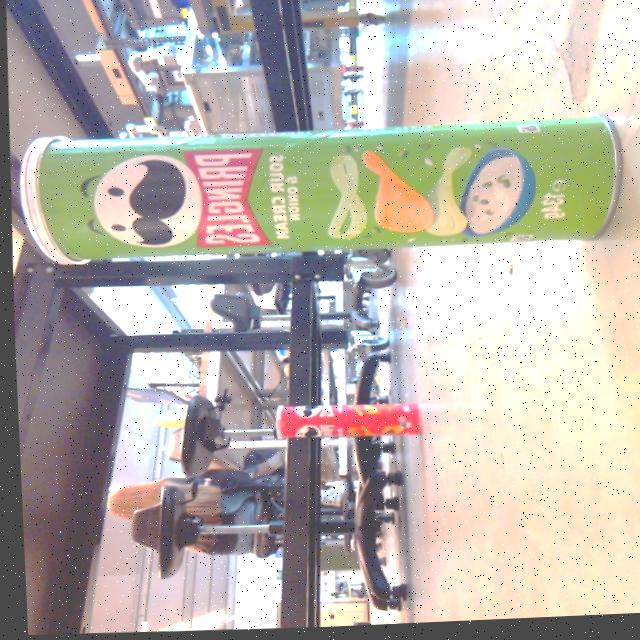greenpringles: (5, 111, 634, 304)
redpringles: (256, 380, 434, 453)
